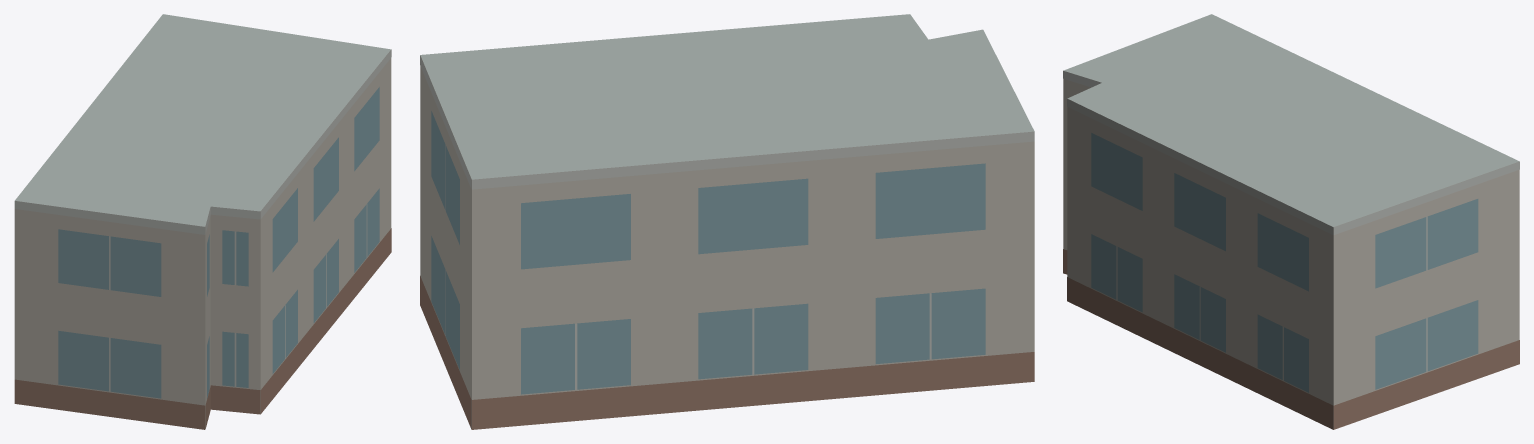
File: survey-upis-32912155.glb
3 renders of one model, left to right at view 1: azimuth 30°, elevation 25°; view 2: azimuth 150°, elevation 25°; view 3: azimuth 270°, elevation 25°, orthographic. The views are drawn at different scales.
Visible parts, largest first — view 1: survey-upis-32912155.tmp; view 2: survey-upis-32912155.tmp; view 3: survey-upis-32912155.tmp.
Boxes of the visible parts, x1=… form: survey-upis-32912155.tmp: x1=14, y1=14, x2=391, y2=429; survey-upis-32912155.tmp: x1=420, y1=14, x2=1034, y2=429; survey-upis-32912155.tmp: x1=1063, y1=14, x2=1519, y2=429.
Size of the model in its own units: 13.77 by 6.1 by 12.46.
